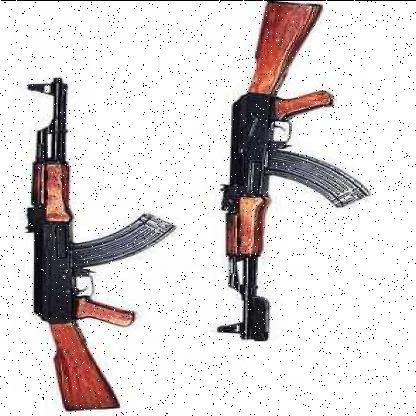rifle: (0, 52, 182, 409), (205, 1, 397, 339)
